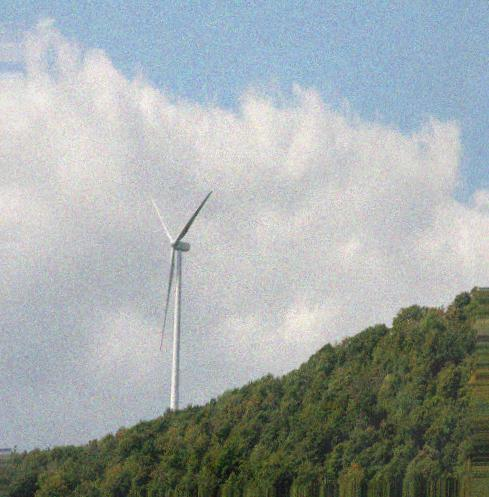wind turbine: (145, 189, 213, 403)
